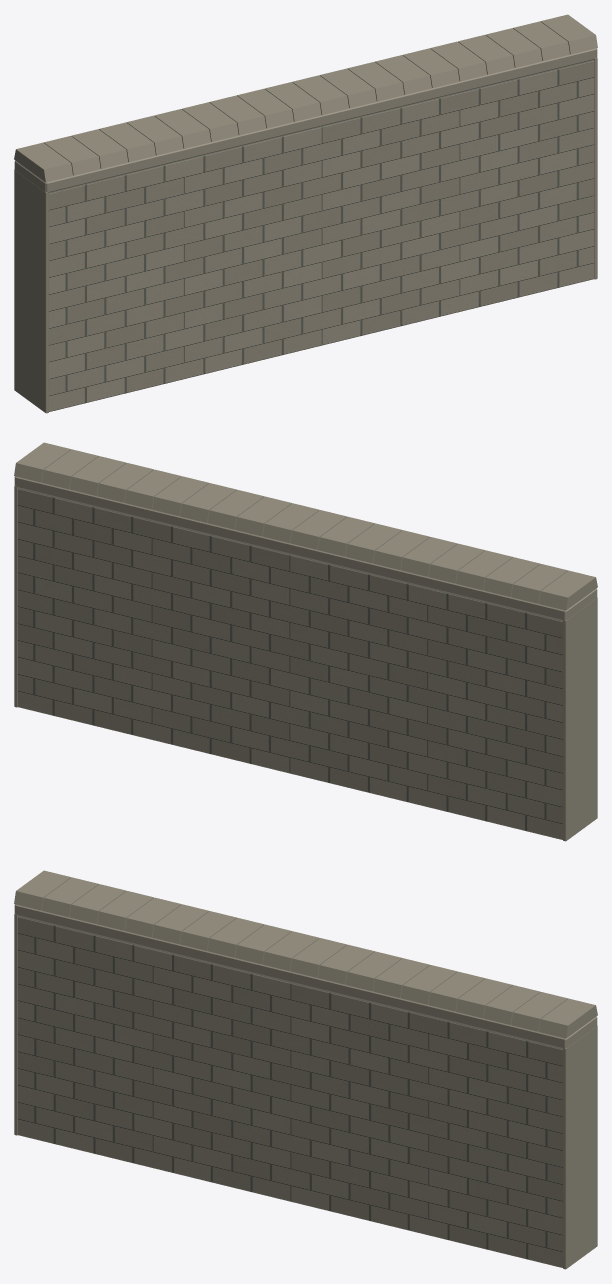
The picture shows the model from 3 angles, top to bottom: view 1: azimuth 30°, elevation 25°; view 2: azimuth 150°, elevation 25°; view 3: azimuth 330°, elevation 25°; orthographic projection.
Parts seen in each view (by area): view 1: static_assembly_wall_native512_masonry_lod, static_assembly_wall_lod_coping; view 2: static_assembly_wall_native512_masonry_lod, static_assembly_wall_lod_coping; view 3: static_assembly_wall_native512_masonry_lod, static_assembly_wall_lod_coping.
Part boxes in pixels (bbox=[...]): static_assembly_wall_native512_masonry_lod: bbox=[49, 60, 594, 411]; static_assembly_wall_lod_coping: bbox=[14, 14, 597, 413]; static_assembly_wall_native512_masonry_lod: bbox=[17, 488, 562, 839]; static_assembly_wall_lod_coping: bbox=[14, 442, 597, 841]; static_assembly_wall_native512_masonry_lod: bbox=[17, 916, 562, 1267]; static_assembly_wall_lod_coping: bbox=[14, 870, 597, 1269].
Bounding box in the file's own units: 10 × 4.2 × 1.
2 materials, 1 textured.
